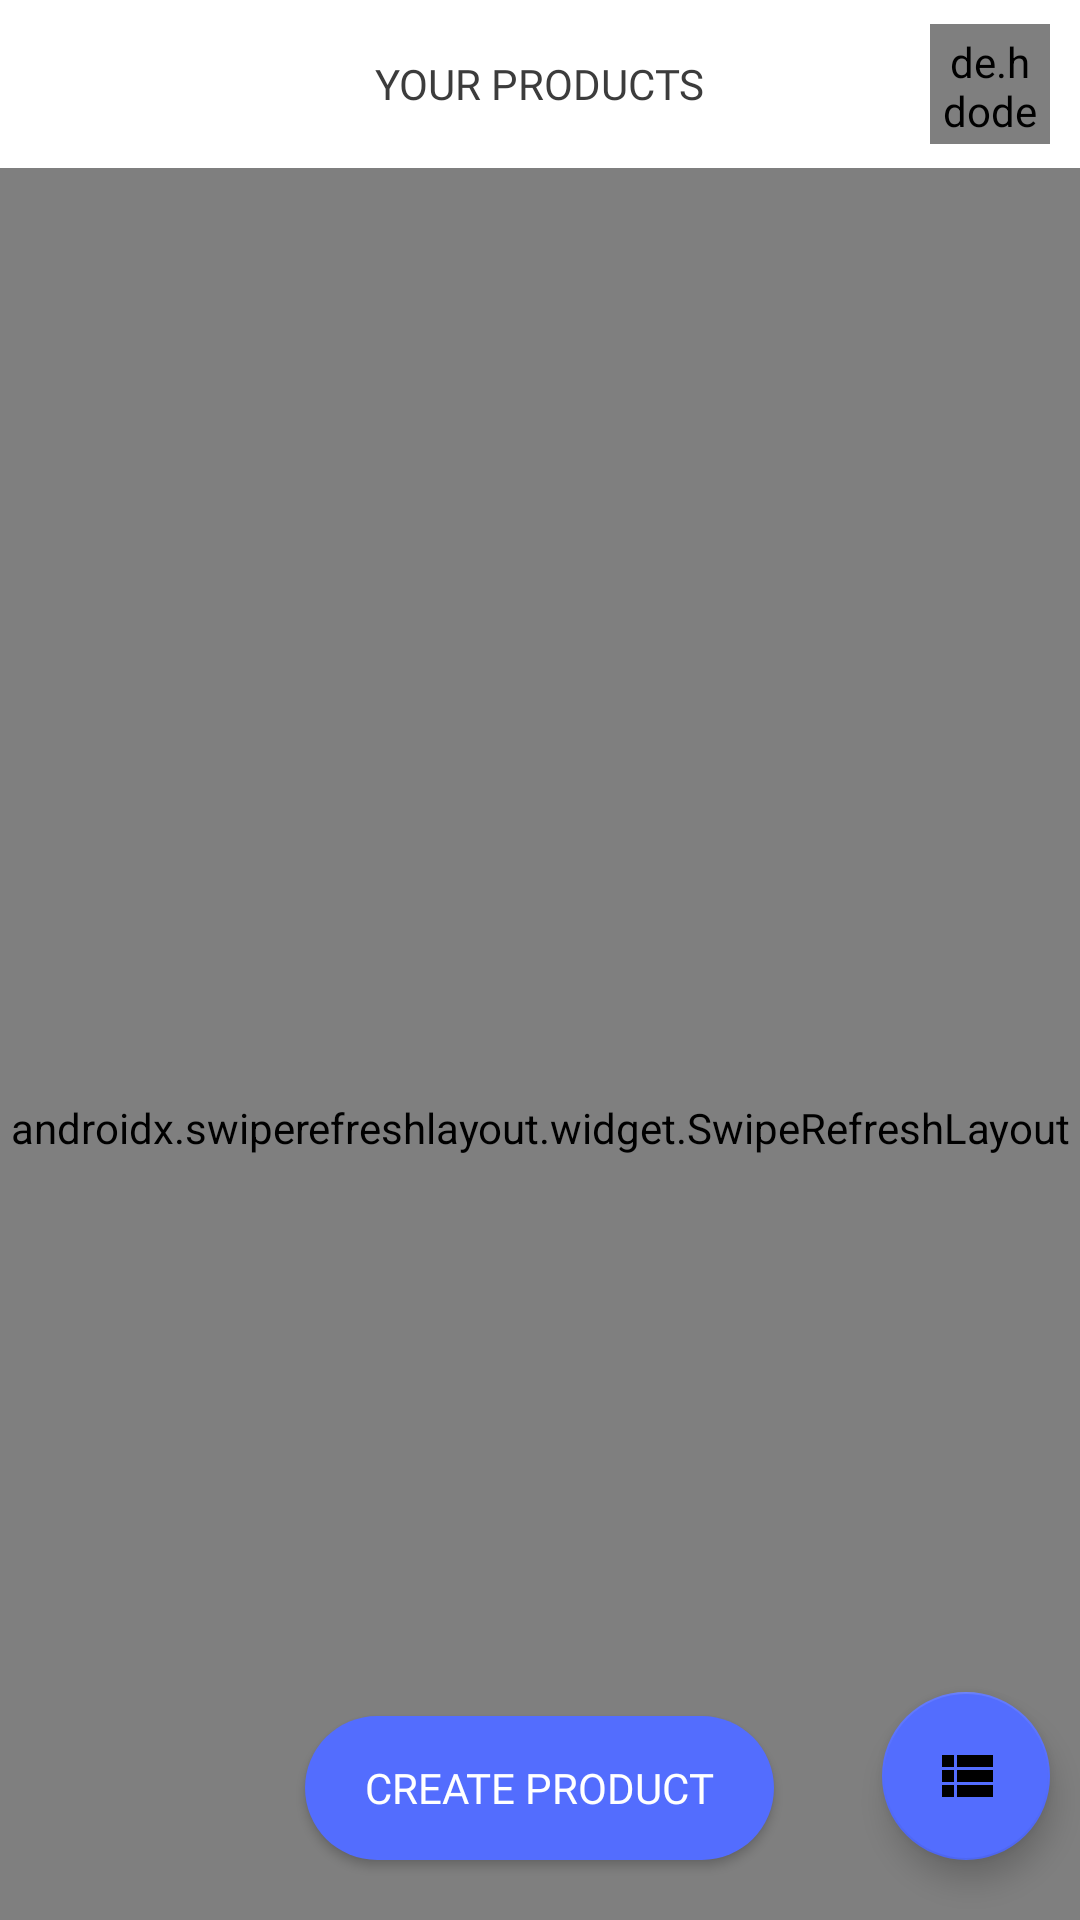

Where icons sit on this 1080x1920 app screen, as (x1, y1, x2, y2):
view list: (882, 1692, 1050, 1860)
